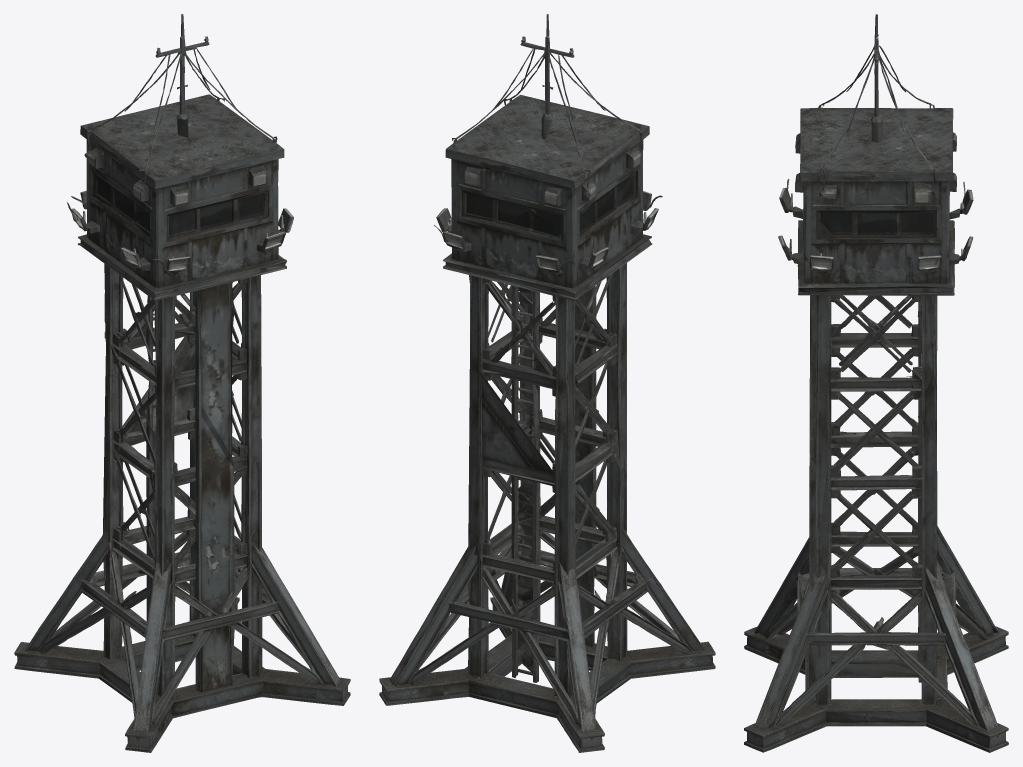
Rendered from wobanitower.glb.
3 views of the same model, side by side, from view 1: azimuth 30°, elevation 25°; view 2: azimuth 150°, elevation 25°; view 3: azimuth 270°, elevation 25° (orthographic). The views are drawn at different scales.
Parts seen in each view (by area): view 1: wobanitower-centred; view 2: wobanitower-centred; view 3: wobanitower-centred.
Part boxes in pixels (x1,y1,x2,y2): wobanitower-centred: (14,14,350,752); wobanitower-centred: (379,14,715,752); wobanitower-centred: (744,14,1008,752).
Size of the model in its own units: 8.48 by 24 by 8.44.
1 material, 1 textured.
